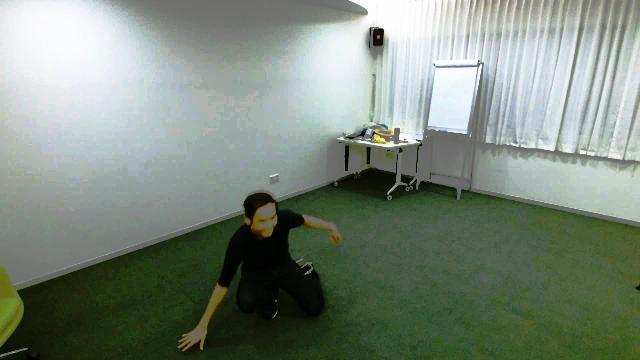jatuh: (166, 185, 346, 351)
